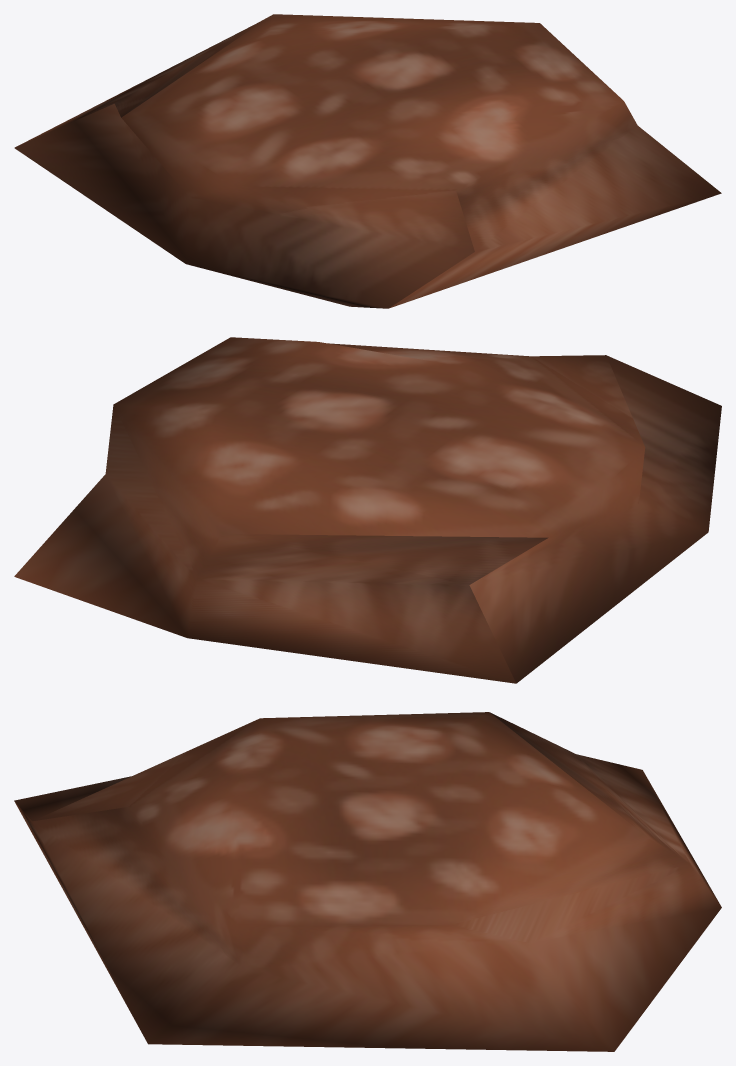
Rendered from Mud.fbx.
3 renders of one model, top to bottom at view 1: azimuth 30°, elevation 25°; view 2: azimuth 150°, elevation 25°; view 3: azimuth 270°, elevation 25°, orthographic. The views are drawn at different scales.
Visible parts, largest first — view 1: Mud; view 2: Mud; view 3: Mud.
Part boxes in pixels (x1,y1,x2,y2): Mud: [14, 14, 721, 308]; Mud: [14, 337, 721, 683]; Mud: [14, 712, 721, 1051].
Size of the model in its own units: 242 by 57.14 by 268.
1 material, 1 textured.
